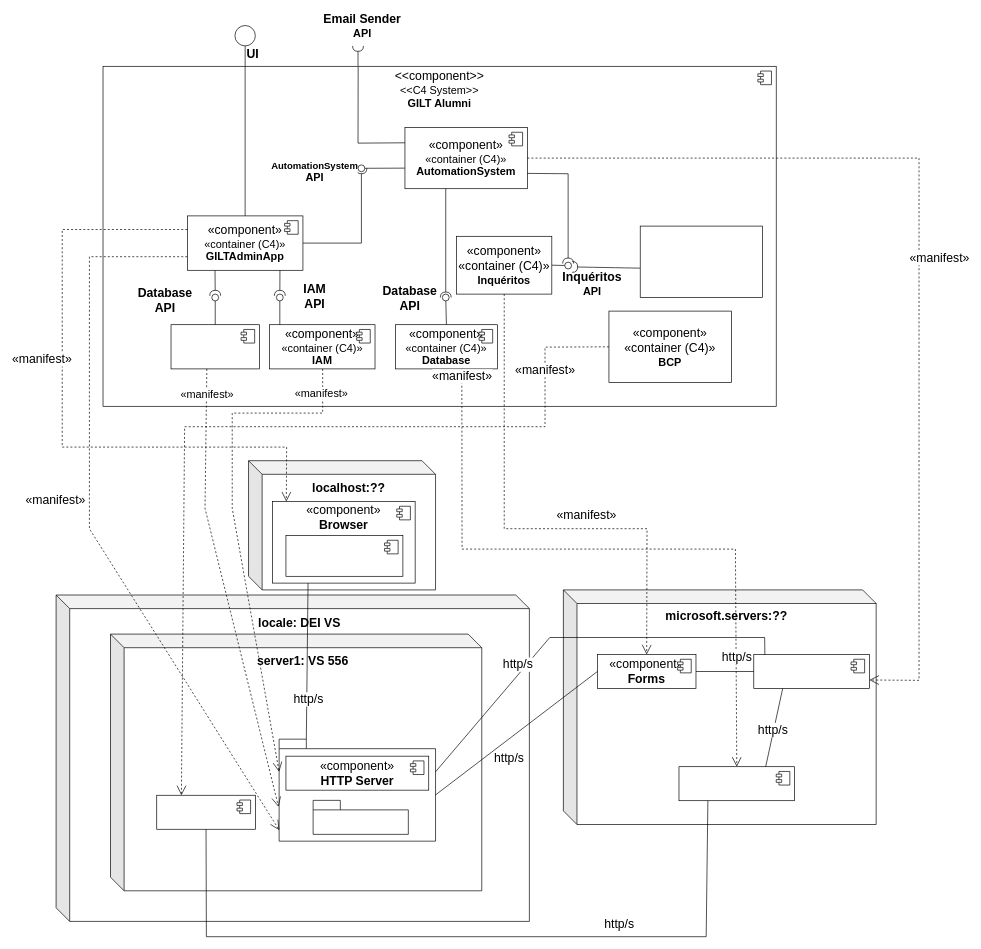
The diagram is 981 pixels wide and 949 high, and some of its shapes have lost their labels. Here are the shapes that lost their labels. From the top down, the centre of each, then its label:
At pixel 701 261: "«component» «container (C4)» RGPD".
At pixel 214 346: "«component» «container (C4)» SQLiteDB".
At pixel 344 555: "«component» GILTAdminApp".
At pixel 811 671: "«component» Power Automate".
At pixel 736 783: "«component» Sharepoint".
At pixel 205 812: "«component» BCP".
At pixel 360 817: "GILTAdminApp".
